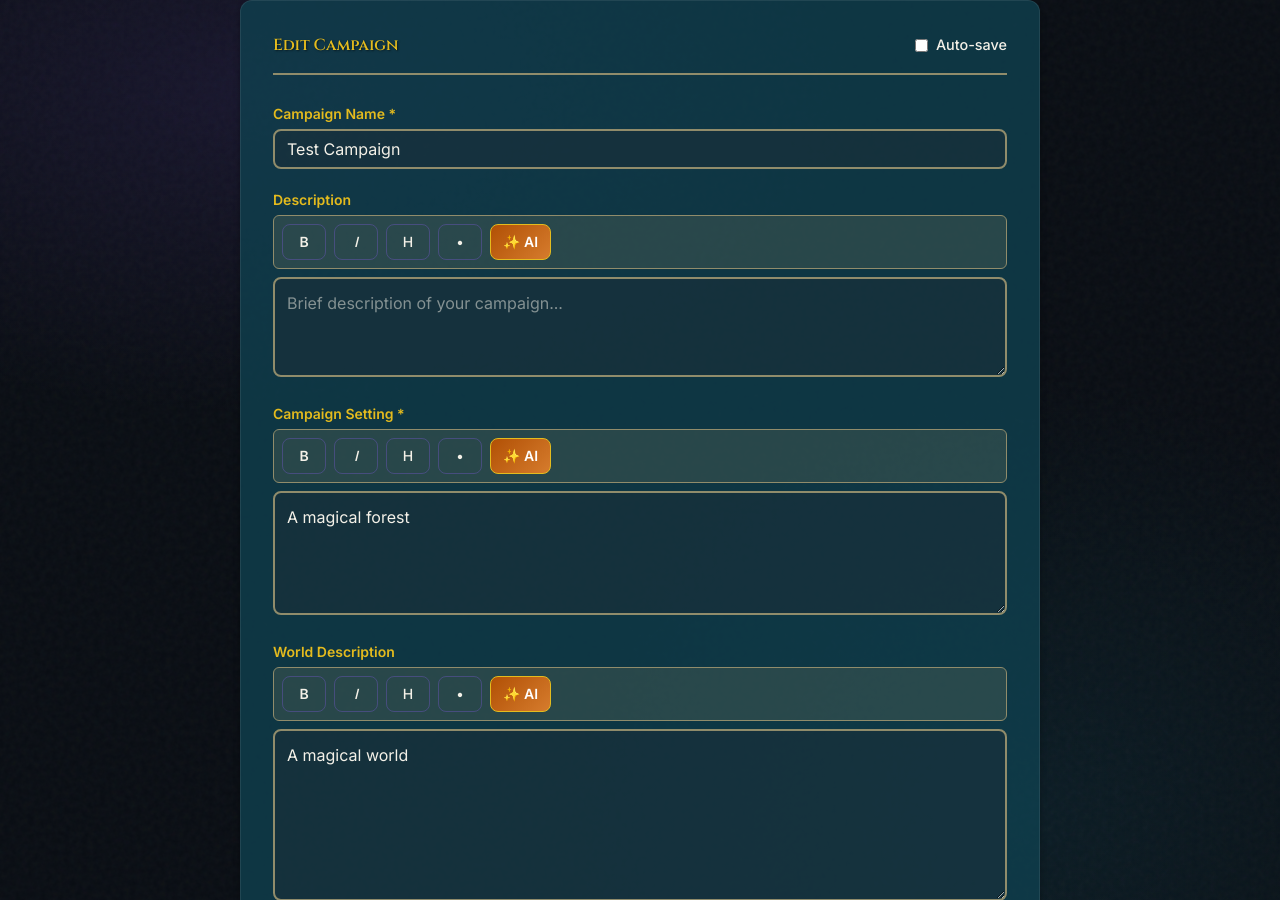
Scenario: CampaignEditor › apply button is disabled for empty fields
The image size is (1280, 900).
Note: Click the AI assistance button for description
Click the 1st button "✨ AI" at {"x": 521, "y": 242}, box [490,224,551,260]
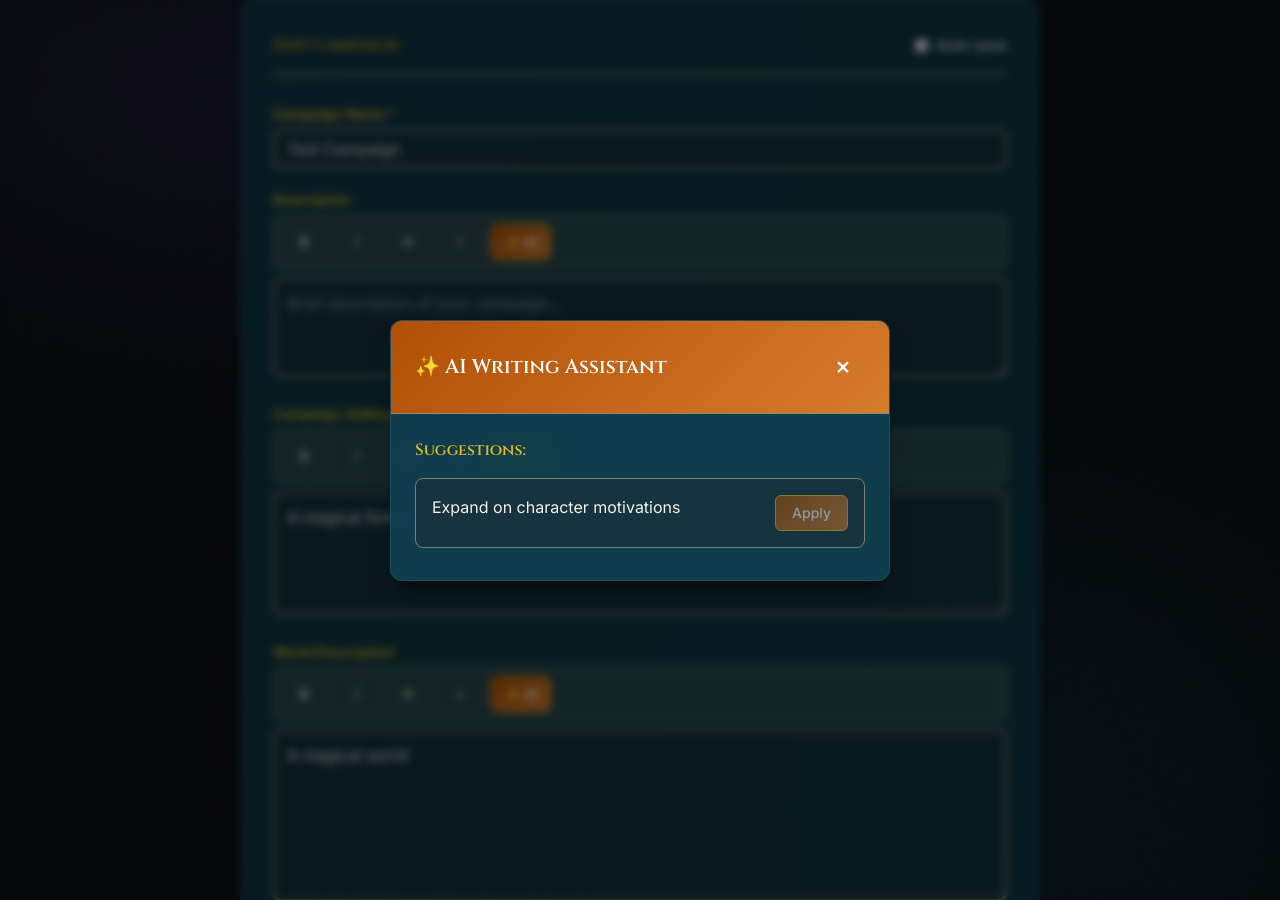
Expected: the text "Expand on character motivations" is shown, [432,496,680,516]
Expected: the button "Apply" is disabled, [775,494,848,530]
